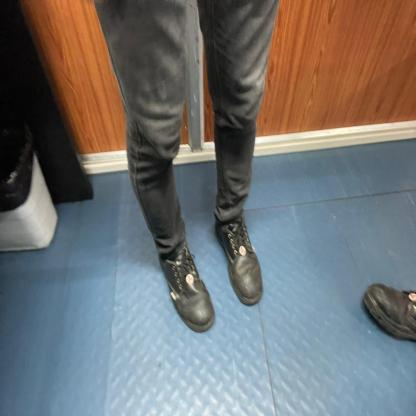bota: (158, 240, 216, 335), (214, 210, 264, 304), (361, 281, 416, 342)
